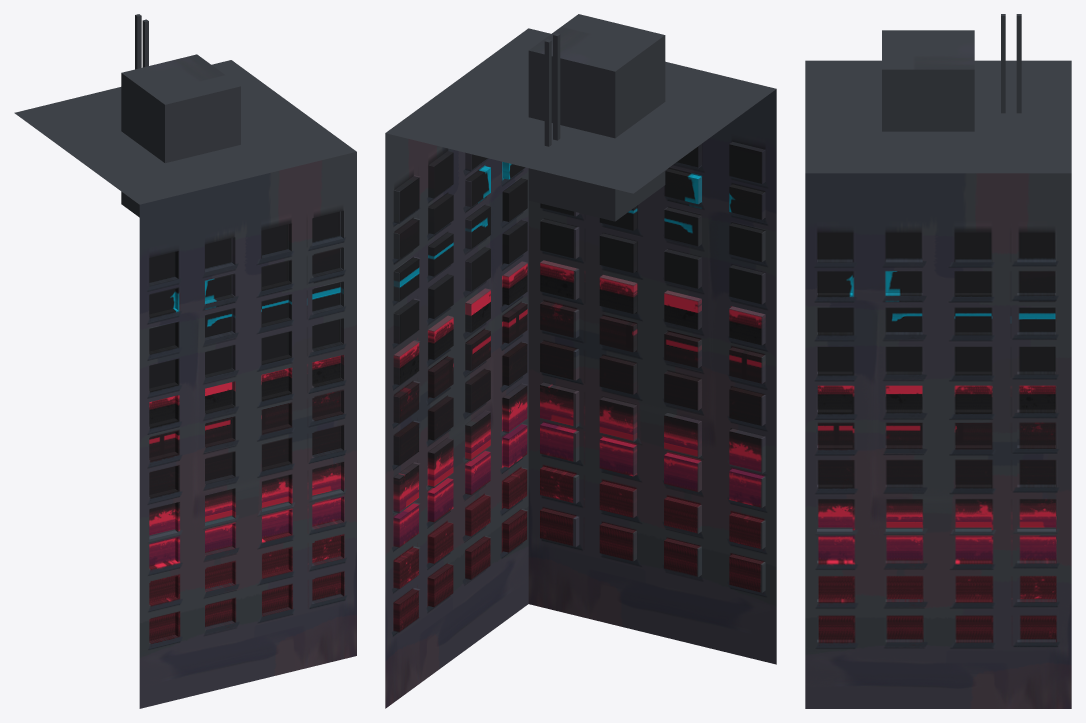
The model's file is built.glb.
3 renders of one model, left to right at view 1: azimuth 30°, elevation 25°; view 2: azimuth 150°, elevation 25°; view 3: azimuth 270°, elevation 25°, orthographic. The views are drawn at different scales.
Parts seen in each view (by area): view 1: built.002; view 2: built.002; view 3: built.002.
Boxes of the visible parts, x1,y1,x2,y2 form: built.002: [14, 14, 356, 708]; built.002: [385, 14, 776, 708]; built.002: [805, 14, 1071, 708].
Size of the model in its own units: 29.15 by 76.35 by 29.15.
Materials: 2 (2 with a texture image).
